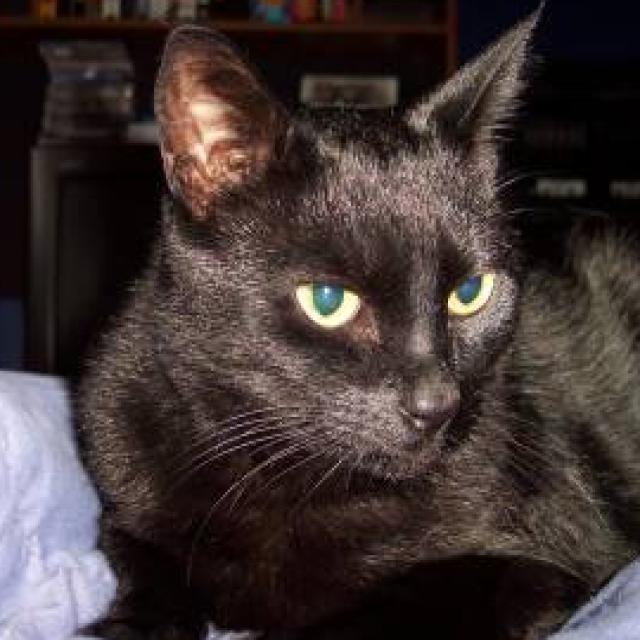Bombay: (66, 0, 640, 640)
